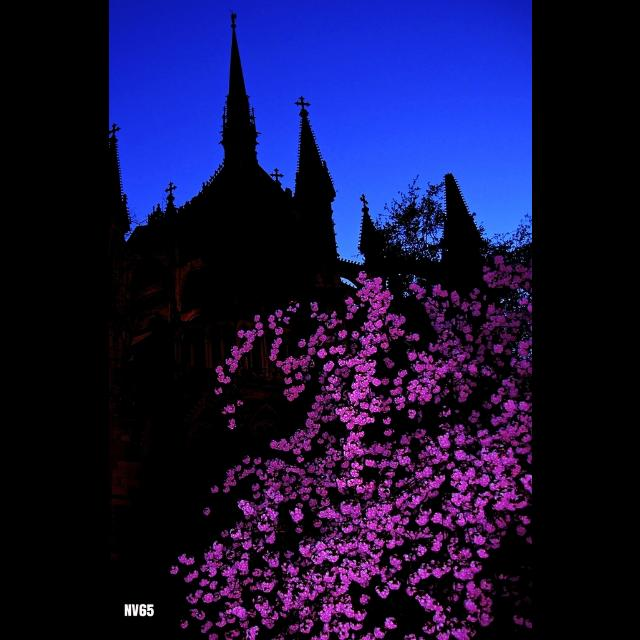Flower: (167, 255, 531, 640), (385, 616, 397, 628), (269, 351, 275, 364)
